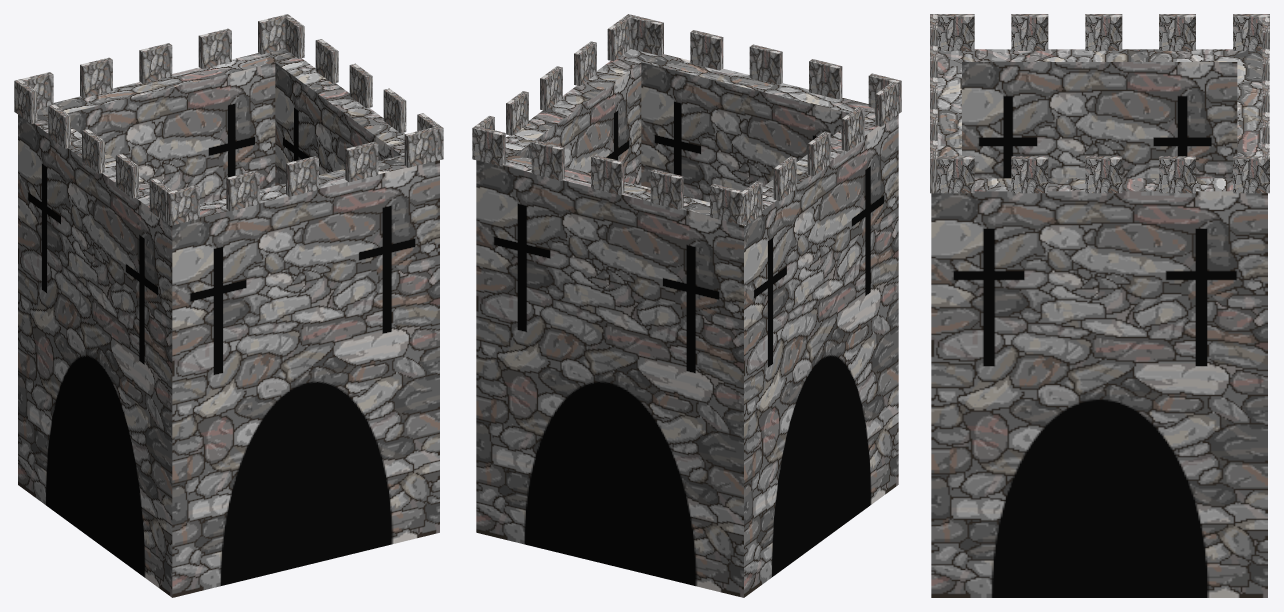
The model's file is square_tower.fbx.
3 views of the same model, side by side, from view 1: azimuth 30°, elevation 25°; view 2: azimuth 150°, elevation 25°; view 3: azimuth 270°, elevation 25° (orthographic). The views are drawn at different scales.
Parts seen in each view (by area): view 1: SquareTower; view 2: SquareTower; view 3: SquareTower.
Part boxes in pixels (<box>): SquareTower: <box>14,14,443,597</box>; SquareTower: <box>472,14,901,597</box>; SquareTower: <box>930,14,1269,597</box>.
Size of the model in its own units: 920 by 1300 by 909.
